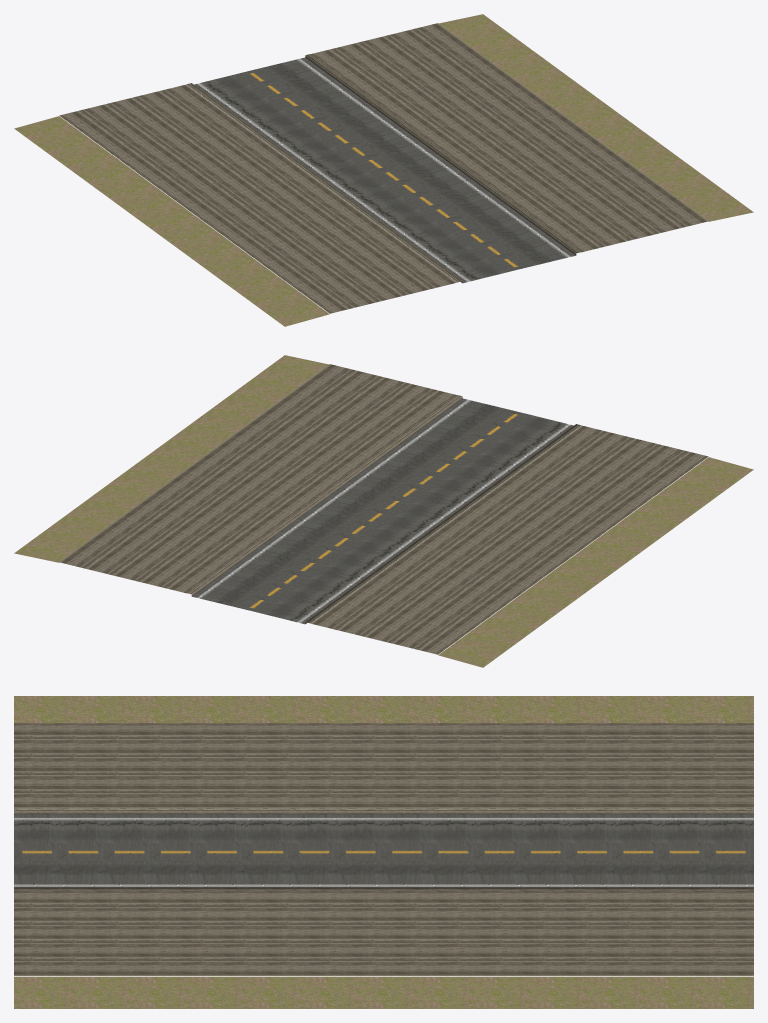
File: tea-ground.glb
The picture shows the model from 3 angles, top to bottom: view 1: azimuth 30°, elevation 25°; view 2: azimuth 150°, elevation 25°; view 3: azimuth 270°, elevation 25°; orthographic projection. The views are drawn at different scales.
Visible parts, largest first — view 1: Curbs_And_Sidewalks, Asphalt_Road, Natural_Ground_Terrain; view 2: Curbs_And_Sidewalks, Asphalt_Road, Natural_Ground_Terrain; view 3: Curbs_And_Sidewalks, Asphalt_Road, Natural_Ground_Terrain.
Boxes of the visible parts, left/top/right/bottom form: Curbs_And_Sidewalks: left=59, top=23, right=708, bottom=313; Asphalt_Road: left=194, top=57, right=575, bottom=283; Natural_Ground_Terrain: left=14, top=14, right=753, bottom=326; Curbs_And_Sidewalks: left=59, top=364, right=708, bottom=654; Asphalt_Road: left=192, top=398, right=573, bottom=624; Natural_Ground_Terrain: left=14, top=355, right=753, bottom=667; Curbs_And_Sidewalks: left=14, top=723, right=753, bottom=975; Asphalt_Road: left=14, top=814, right=753, bottom=887; Natural_Ground_Terrain: left=14, top=696, right=753, bottom=1008.
Bounding box in the file's own units: 26 × 0.12 × 26.
3 materials, 3 textured.
